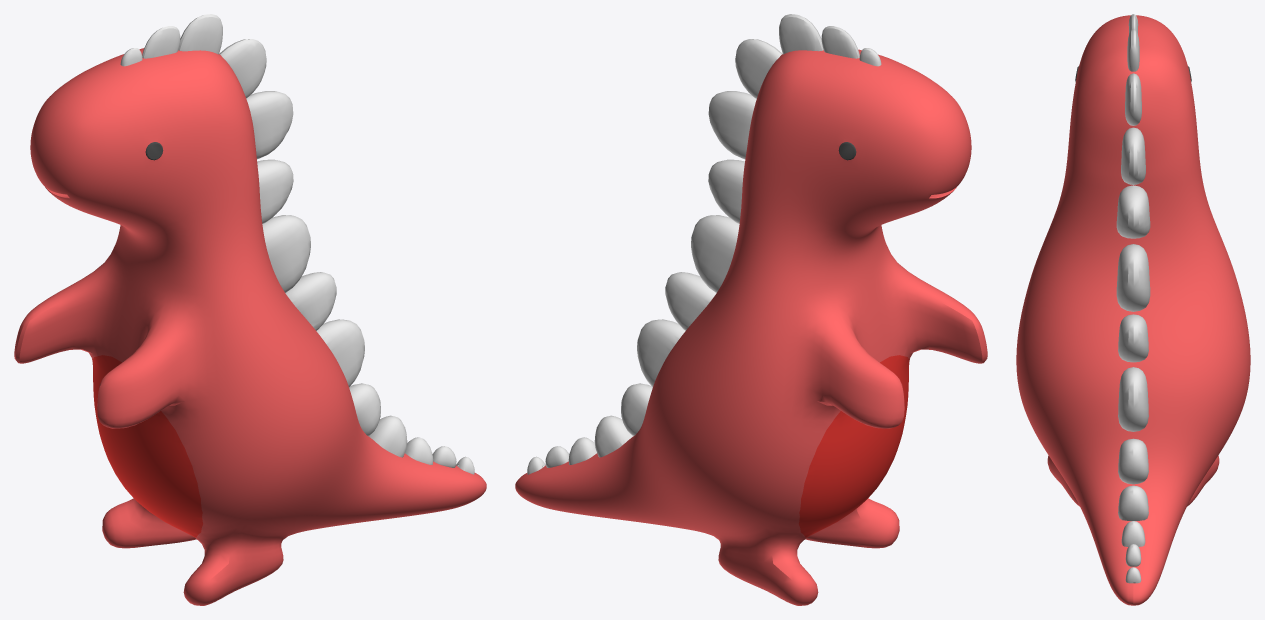
Rendered from Cute Red Dino.glb.
3 views of the same model, side by side, from view 1: azimuth 30°, elevation 25°; view 2: azimuth 150°, elevation 25°; view 3: azimuth 270°, elevation 25° (orthographic). The views are drawn at different scales.
Visible parts, largest first — view 1: dino.001; view 2: dino.001; view 3: dino.001.
Boxes of the visible parts, <box> form: dino.001: <box>14,14,486,605</box>; dino.001: <box>515,14,987,605</box>; dino.001: <box>1016,14,1250,605</box>.
Size of the model in its own units: 1.31 by 1.54 by 0.7005.
